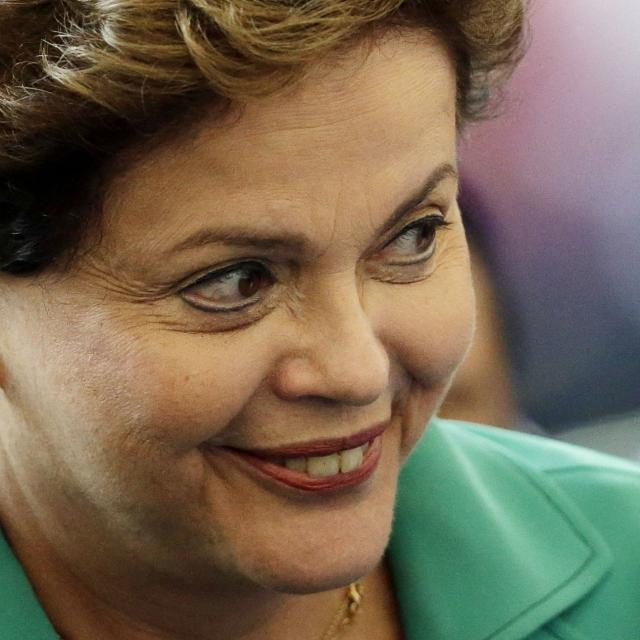Normal: (1, 25, 477, 591)
